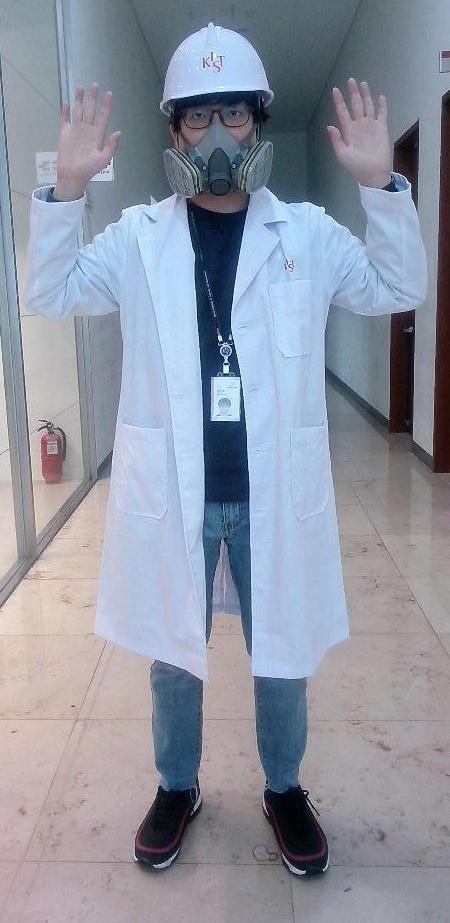lab_coat: (89, 220, 346, 651)
